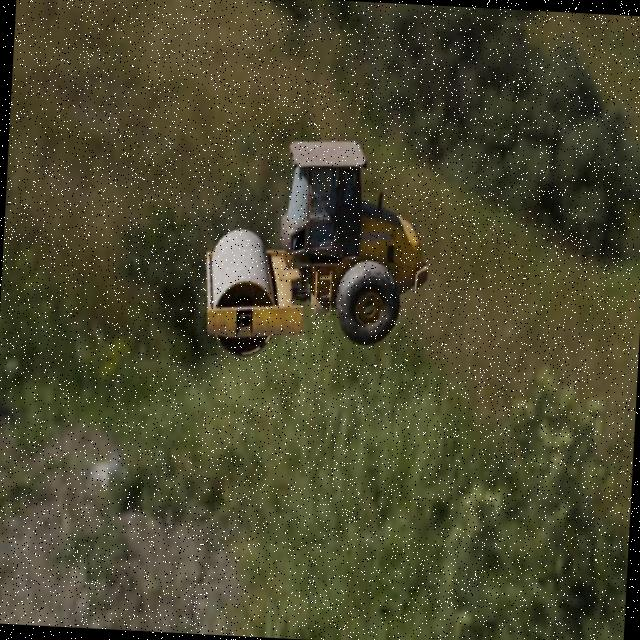Roller: (200, 134, 434, 366)
